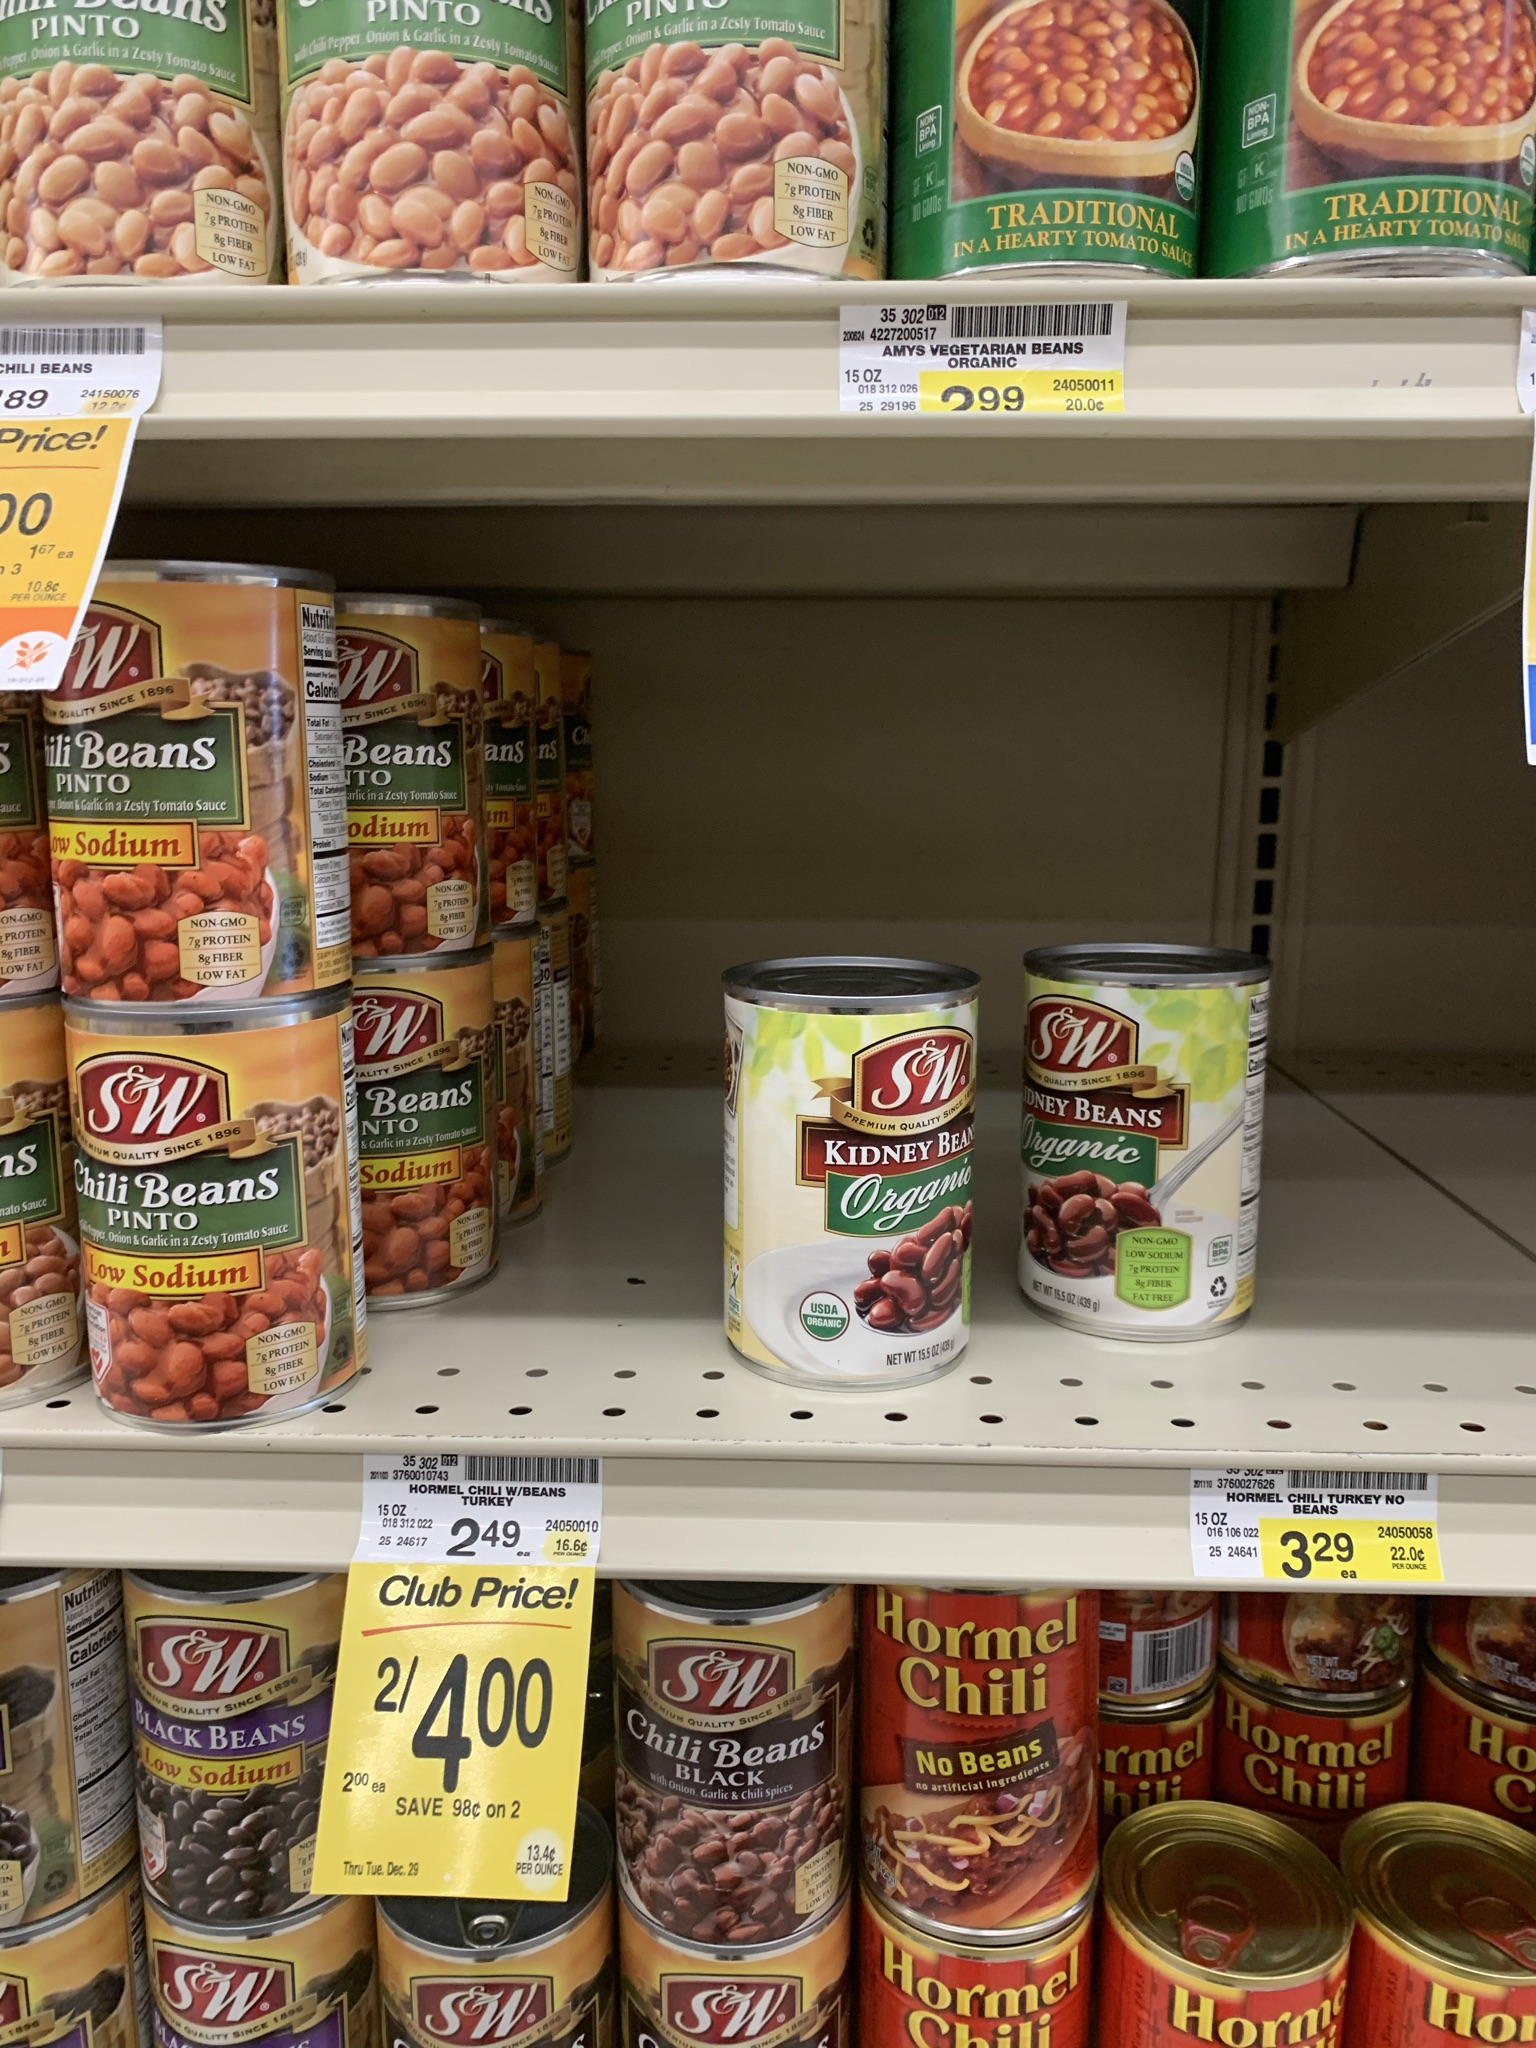can: (53, 1001, 371, 1435), (58, 563, 345, 1005), (718, 984, 960, 1359), (611, 1587, 857, 1950), (862, 1593, 1104, 1938), (1020, 963, 1249, 1313), (111, 1580, 334, 1929)
